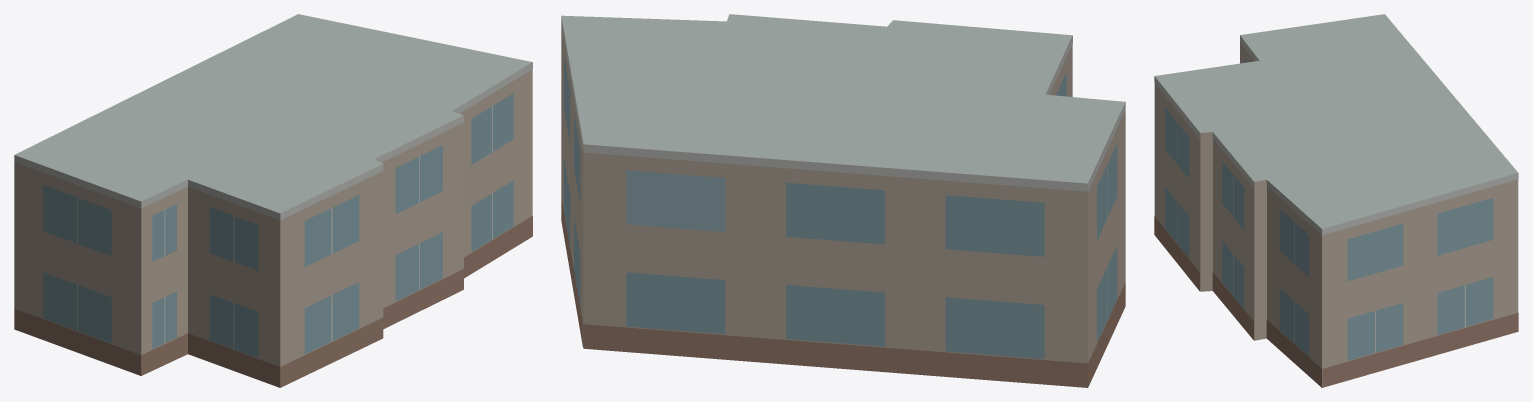
The model's file is survey-upis-32753738.glb.
The picture shows the model from 3 angles, left to right: view 1: azimuth 30°, elevation 25°; view 2: azimuth 150°, elevation 25°; view 3: azimuth 270°, elevation 25°; orthographic projection. The views are drawn at different scales.
Visible parts, largest first — view 1: survey-upis-32753738.tmp; view 2: survey-upis-32753738.tmp; view 3: survey-upis-32753738.tmp.
Boxes of the visible parts, x1,y1,x2,y2 form: survey-upis-32753738.tmp: (14, 14, 532, 387); survey-upis-32753738.tmp: (561, 14, 1125, 387); survey-upis-32753738.tmp: (1154, 14, 1518, 387).
Size of the model in its own units: 17.72 by 6.1 by 12.68.
